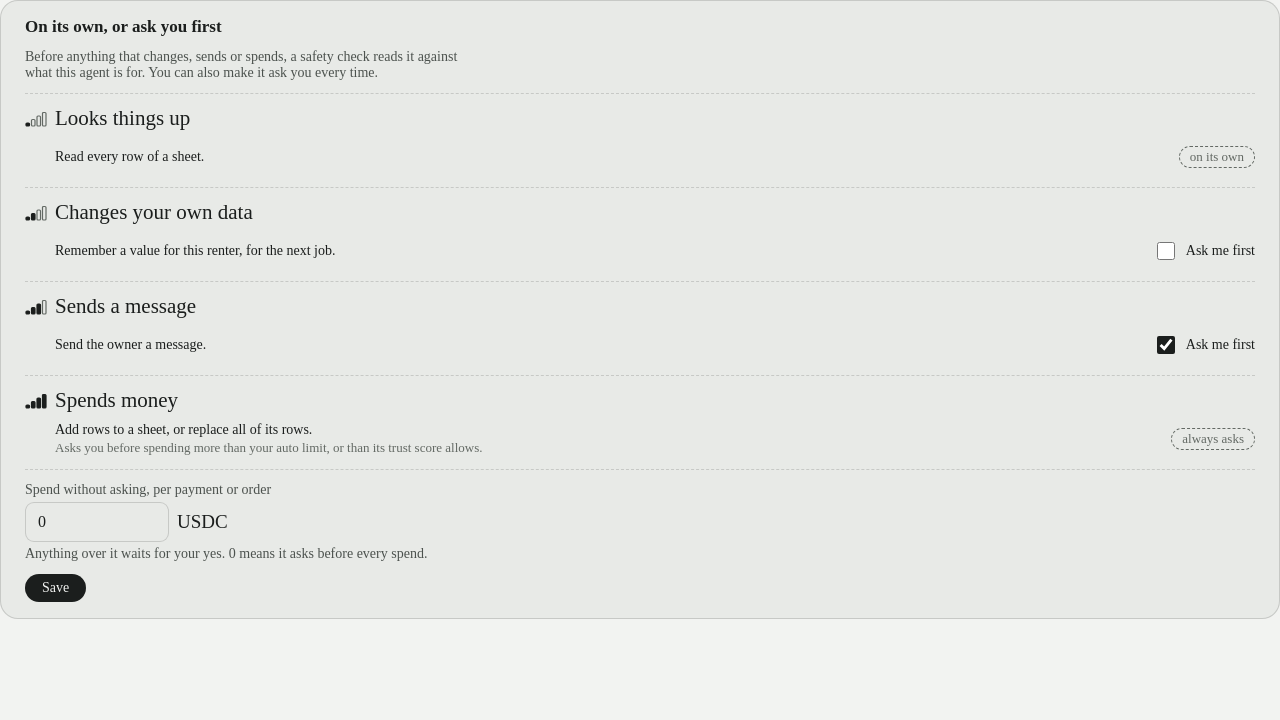
Test: the safety panel › refuses an auto limit out of bounds without saving
Replace the text in the field named "Spend without asking, per payment or order, in USDC" with "-3" at (97, 522), box [25,502,169,542]
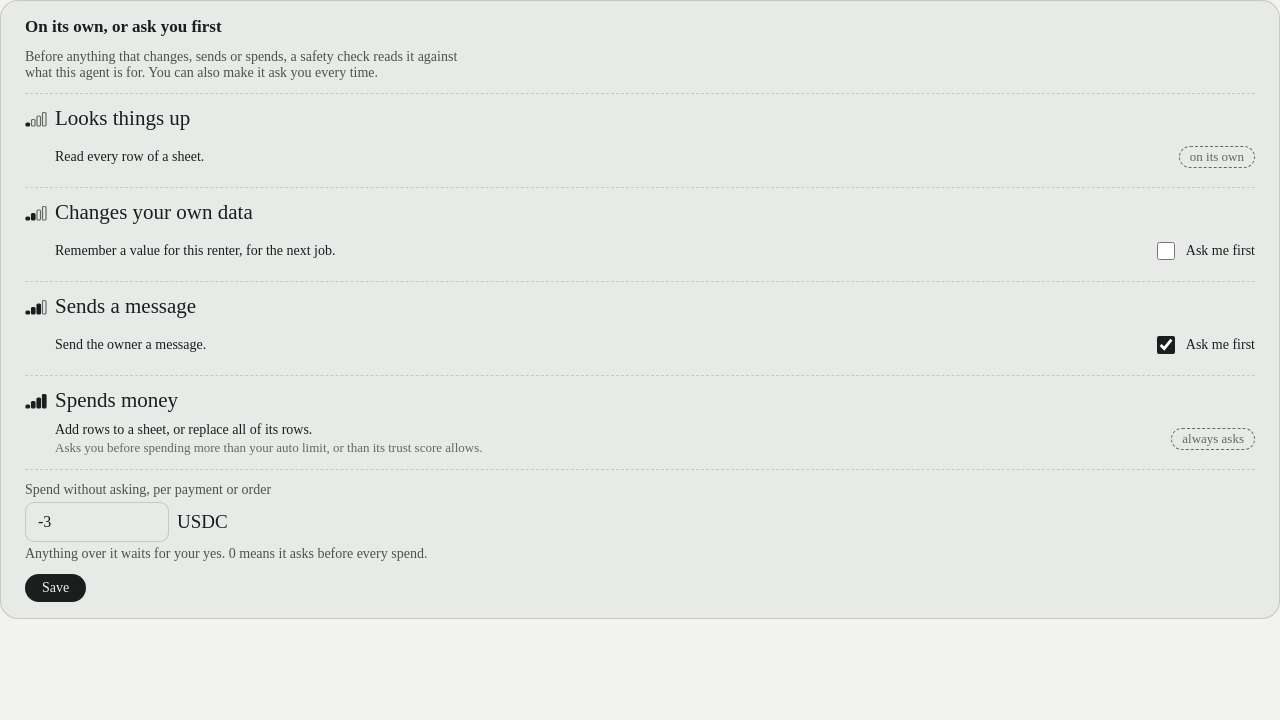
Click the button "Save" at (56, 588), box [25,574,86,602]
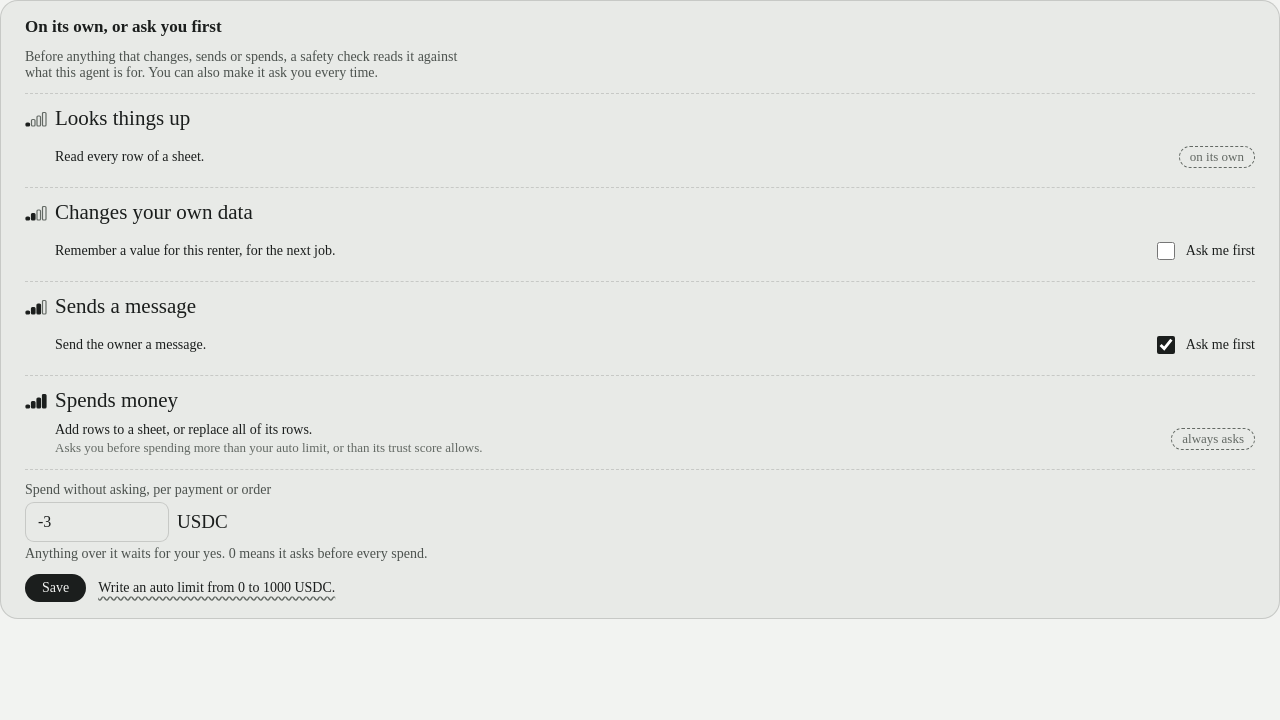
Check: the message reads "Write an auto limit from 0 to 1000 USDC.", box [98,580,335,595]
